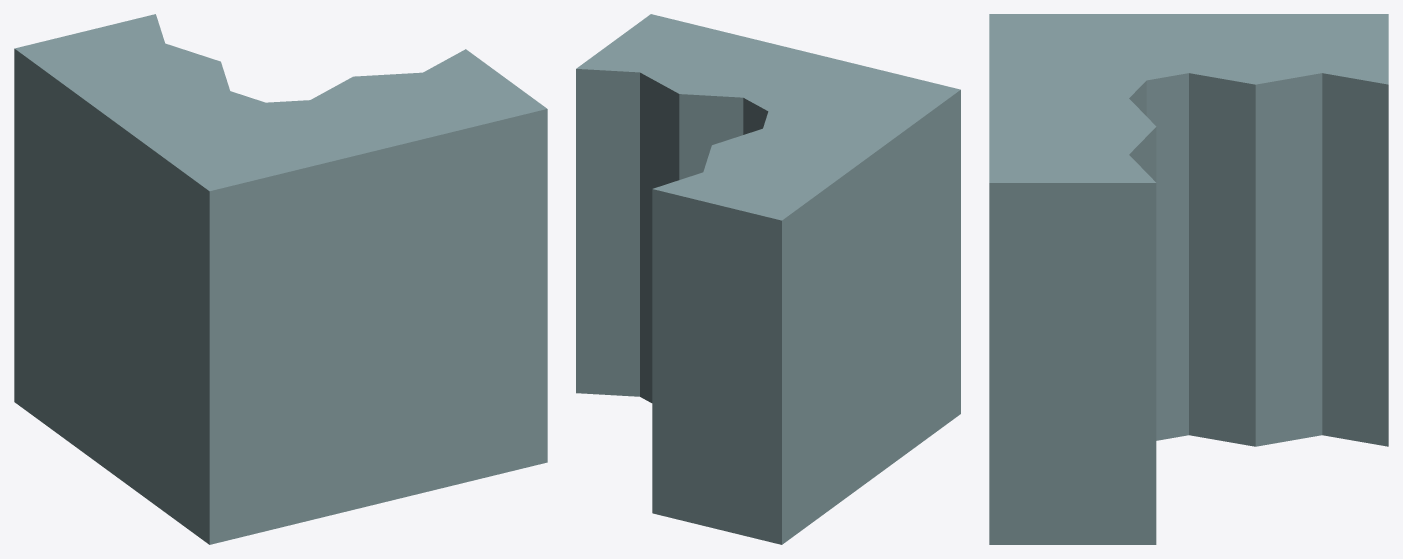
The model's file is cliff_cornerInnerLarge_stone.glb.
3 renders of one model, left to right at view 1: azimuth 30°, elevation 25°; view 2: azimuth 150°, elevation 25°; view 3: azimuth 270°, elevation 25°, orthographic. The views are drawn at different scales.
Visible parts, largest first — view 1: cliff_cornerInnerLarge_stone; view 2: cliff_cornerInnerLarge_stone; view 3: cliff_cornerInnerLarge_stone.
Part boxes in pixels (box(x1,y1,x2,y2)): cliff_cornerInnerLarge_stone: box(14, 14, 547, 544); cliff_cornerInnerLarge_stone: box(576, 14, 960, 544); cliff_cornerInnerLarge_stone: box(989, 14, 1388, 544).
Size of the model in its own units: 1.2 by 1.2 by 1.2.
